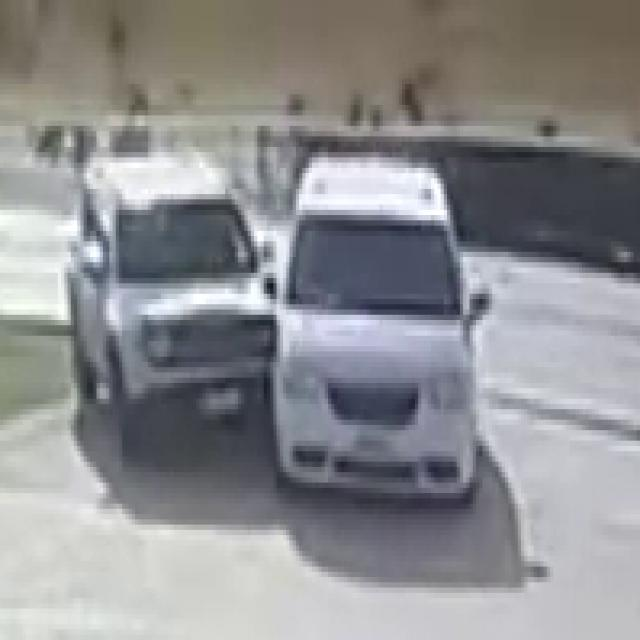accident: (88, 170, 462, 513)
